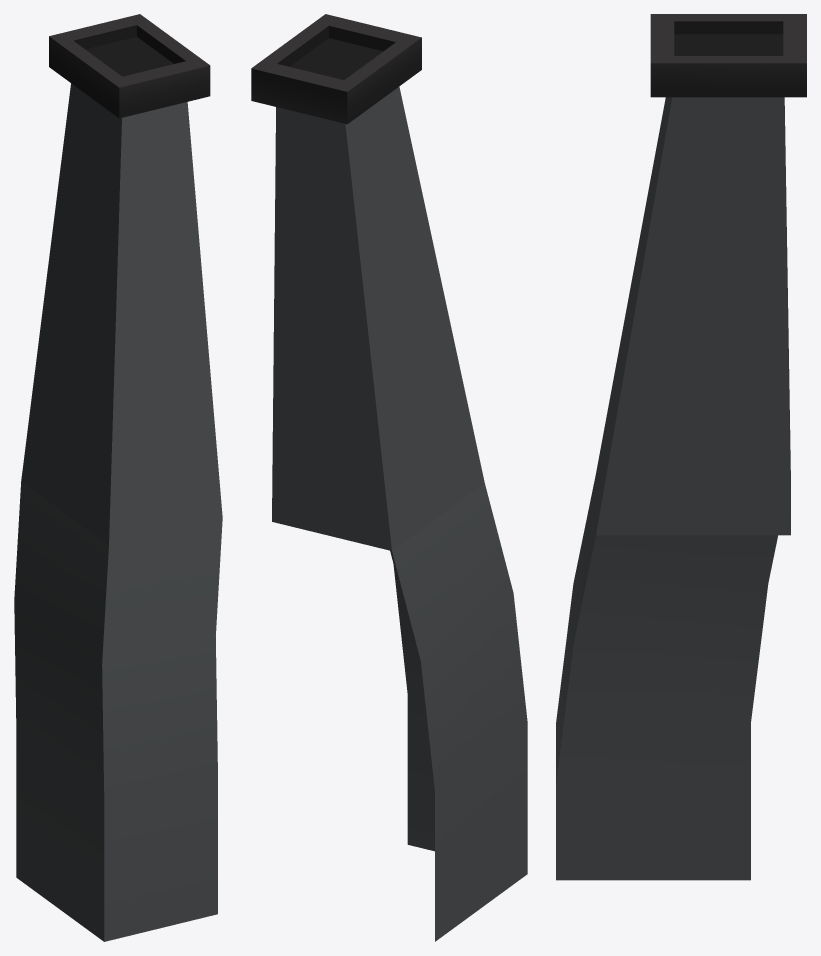
The model's file is fanasty_mod_sml_chimney01.fbx.
3 views of the same model, side by side, from view 1: azimuth 30°, elevation 25°; view 2: azimuth 150°, elevation 25°; view 3: azimuth 270°, elevation 25° (orthographic). The views are drawn at different scales.
Visible parts, largest first — view 1: chimney_01; view 2: chimney_01; view 3: chimney_01.
Boxes of the visible parts, x1=… form: chimney_01: x1=14, y1=14, x2=222, y2=941; chimney_01: x1=251, y1=14, x2=527, y2=941; chimney_01: x1=556, y1=14, x2=806, y2=880.
Bounding box in the file's own units: 1.9 × 9.84 × 2.49.
